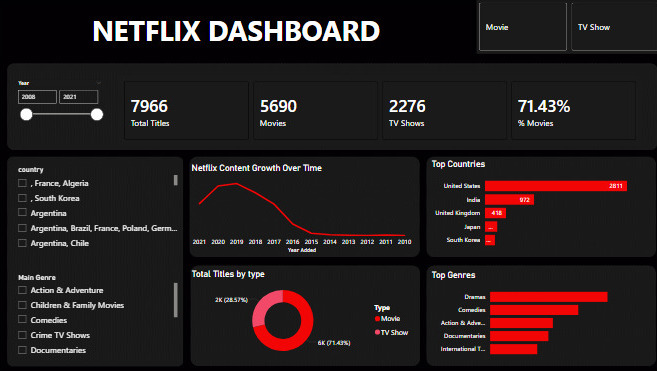

The dashboard page shown, as its layout file describes it:
{"tool":"powerbi","page":{"name":"Page 1","canvas":[1280,720],"ordinal":0},"visuals":[{"type":"lineChart","title":"Netflix Content Growth Over Time","fields":{"Category":["netflix_titles.Year Added"],"Y":["_Measures.Total Titles"]},"box":[366.5,313.5,436.5,180.9],"z":0},{"type":"donutChart","fields":{"Category":["netflix_titles.type"],"Y":["_Measures.Total Titles"]},"box":[366.5,518.5,436.5,180.9],"z":1000},{"type":"clusteredBarChart","title":"Top Countries","fields":{"Category":["netflix_titles.country"],"Y":["_Measures.Total Titles"]},"box":[829.5,306.3,419.6,183.3],"z":2000},{"type":"clusteredBarChart","title":"Top Genres","fields":{"Category":["netflix_titles.Main Genre"],"Y":["_Measures.Total Titles"]},"box":[829.5,520.9,419.6,178.4],"z":3000},{"type":"cardVisual","fields":{"Data":["_Measures.Total Titles","_Measures.Movies","_Measures.TV Shows","_Measures.% Movies"]},"box":[224.3,139.9,1024.9,147.1],"z":5000},{"type":"slicer","fields":{"Values":["DateTable.Year"]},"box":[24.1,149.5,185.7,125.4],"z":6000},{"type":"slicer","fields":{"Values":["netflix_titles.country"]},"box":[24.1,313.5,325.5,176],"z":7000},{"type":"slicer","fields":{"Values":["netflix_titles.Main Genre"]},"box":[24.1,520.9,325.5,168.8],"z":8000},{"type":"advancedSlicerVisual","fields":{"Values":["netflix_titles.type"]},"box":[921.2,0,359.3,103.7],"z":9000},{"type":"textbox","box":[24.1,16.9,865.7,86.8],"z":9001}]}

Visuals, with their boxes in screenshot pixels (x1, y1, x2, y2), scaled from the page's 1280x720 canvas onto the 657x371 screenshot:
"Netflix Content Growth Over Time" lineChart: Rect(188, 162, 412, 255)
donutChart - netflix_titles.type x _Measures.Total Titles: Rect(188, 267, 412, 360)
"Top Countries" clusteredBarChart: Rect(426, 158, 641, 252)
"Top Genres" clusteredBarChart: Rect(426, 268, 641, 360)
cardVisual - _Measures.Total Titles x _Measures.Movies: Rect(115, 72, 641, 148)
slicer - DateTable.Year: Rect(12, 77, 108, 142)
slicer - netflix_titles.country: Rect(12, 162, 179, 252)
slicer - netflix_titles.Main Genre: Rect(12, 268, 179, 355)
advancedSlicerVisual - netflix_titles.type: Rect(473, 0, 656, 53)
textbox: Rect(12, 9, 457, 53)
